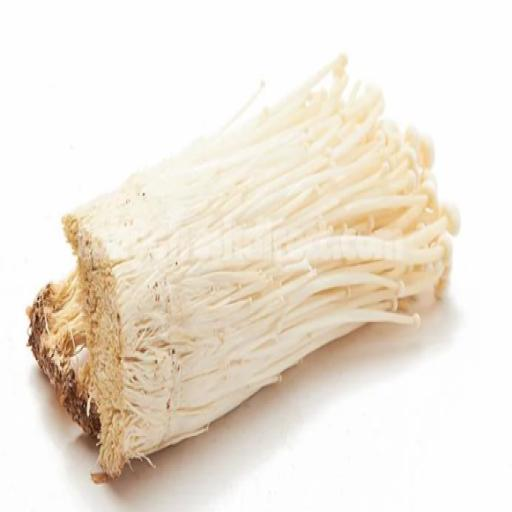Enoki Mushroom: (0, 16, 512, 492)
